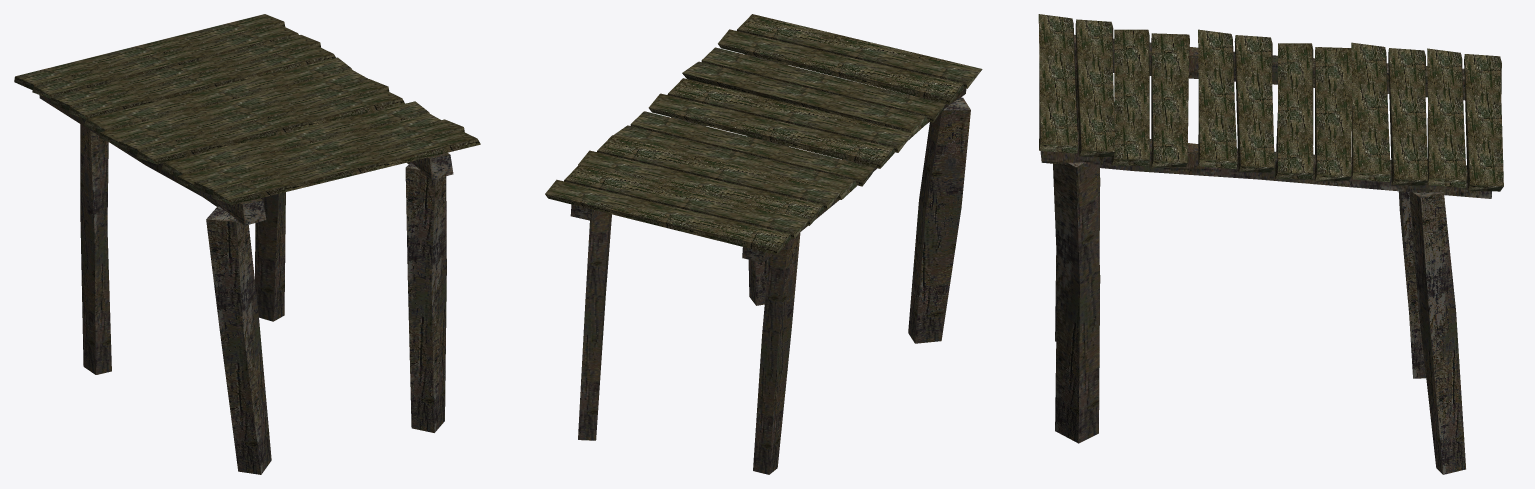
Rendered from schronienie6.glb.
3 views of the same model, side by side, from view 1: azimuth 30°, elevation 25°; view 2: azimuth 150°, elevation 25°; view 3: azimuth 270°, elevation 25° (orthographic). The views are drawn at different scales.
Visible parts, largest first — view 1: zengin01; view 2: zengin01; view 3: zengin01.
Boxes of the visible parts, left/top/right/bottom form: zengin01: left=14, top=14, right=480, bottom=474; zengin01: left=545, top=14, right=982, bottom=474; zengin01: left=1038, top=14, right=1503, bottom=474.
Bounding box in the file's own units: 3.58 × 3.9 × 5.39.
4 materials, 4 textured.
